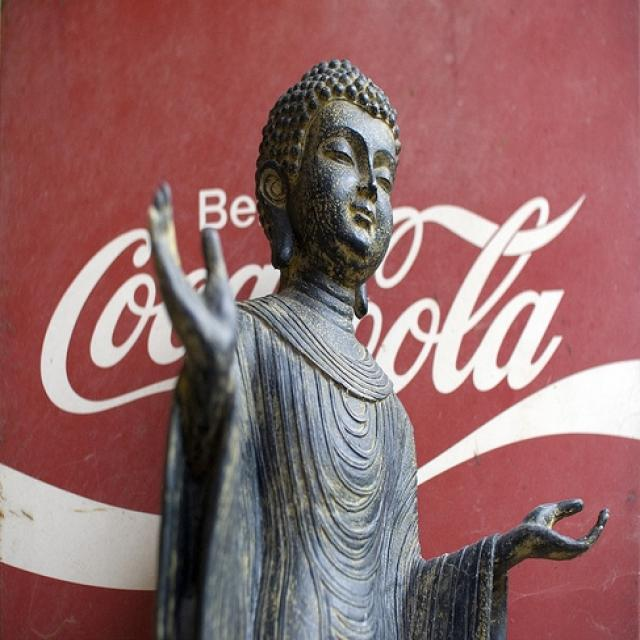cocacola: (33, 182, 604, 424)
